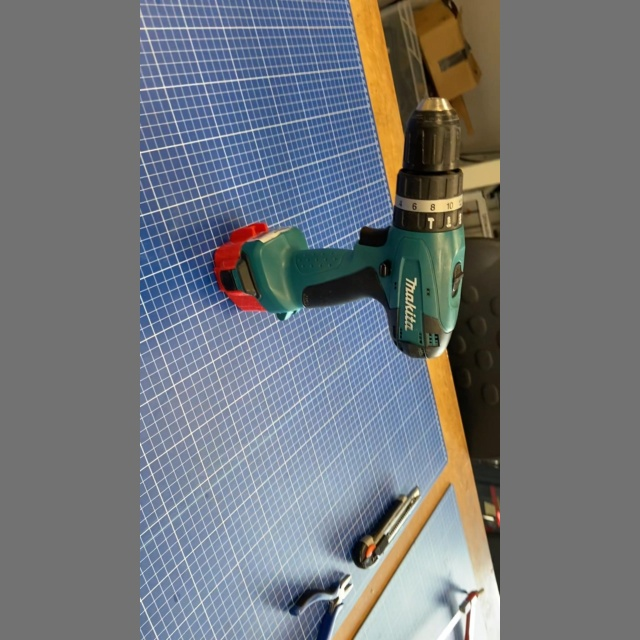drill: (208, 91, 473, 364)
